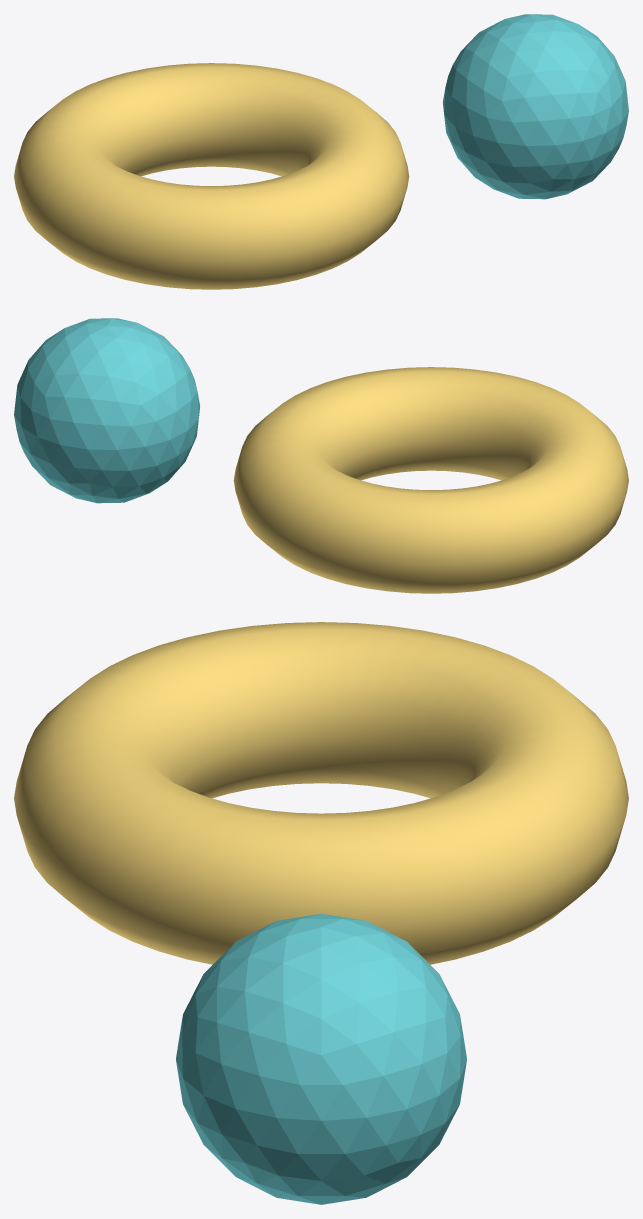
The model's file is props.fbx.glb.
3 views of the same model, one above another, from view 1: azimuth 30°, elevation 25°; view 2: azimuth 150°, elevation 25°; view 3: azimuth 270°, elevation 25° (orthographic). The views are drawn at different scales.
Visible parts, largest first — view 1: Ring, Ball; view 2: Ring, Ball; view 3: Ring, Ball.
Part boxes in pixels (left/top/right/bottom): Ring: left=14, top=63, right=409, bottom=289; Ball: left=442, top=14, right=628, bottom=199; Ring: left=233, top=367, right=628, bottom=593; Ball: left=14, top=318, right=200, bottom=503; Ring: left=14, top=622, right=628, bottom=964; Ball: left=176, top=913, right=466, bottom=1204.
Size of the model in its own units: 3.2 by 0.9 by 1.9.
